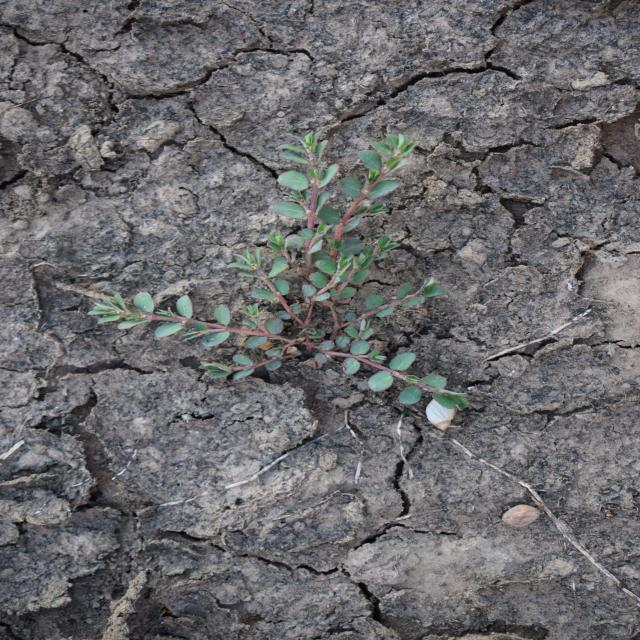SpottedSpurge: (84, 128, 477, 415)
